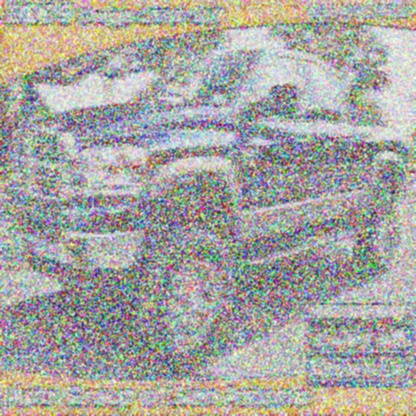Vehicle: (5, 50, 410, 360)
